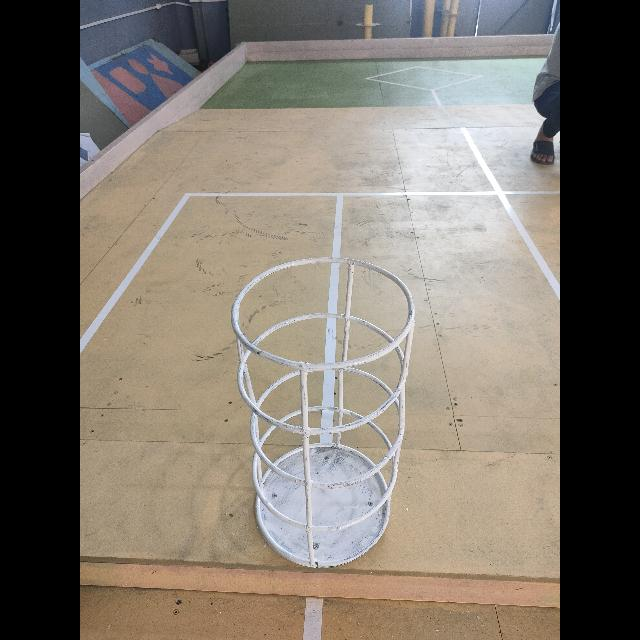S: (230, 257, 416, 571)
